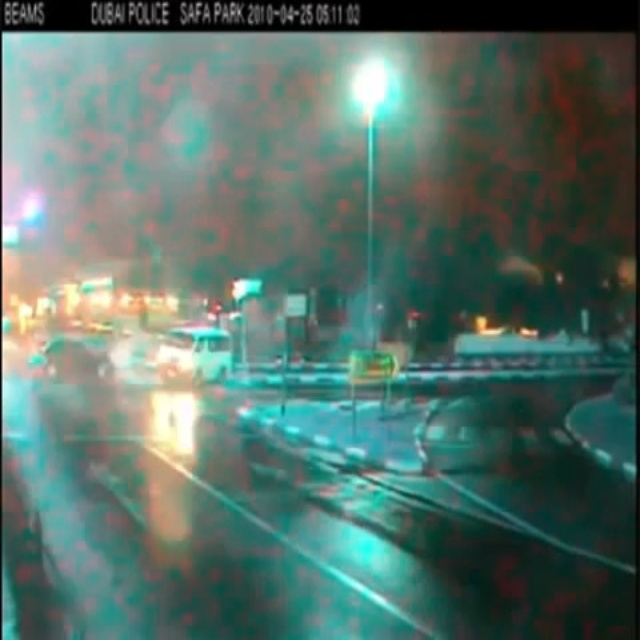acc: (26, 327, 208, 392)
